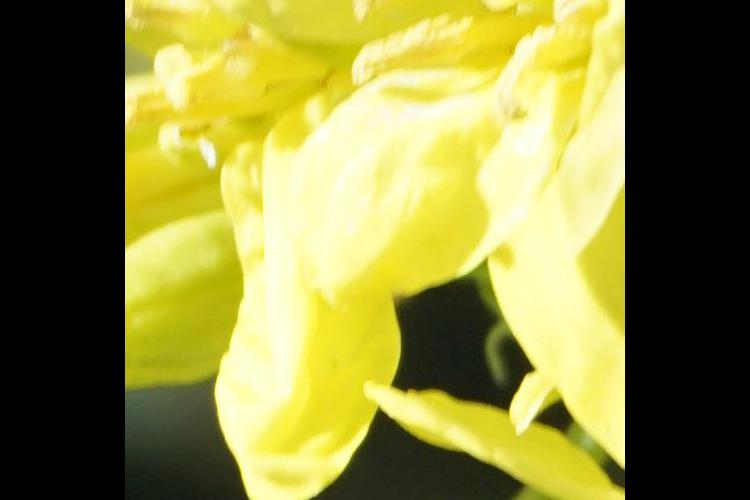yellow: (167, 1, 488, 476), (419, 1, 624, 360)
